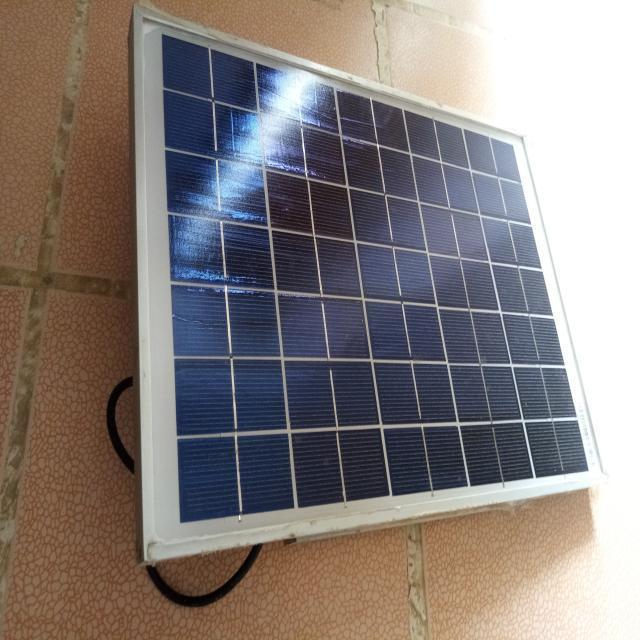Normal Solar Panel: (142, 12, 606, 546)
